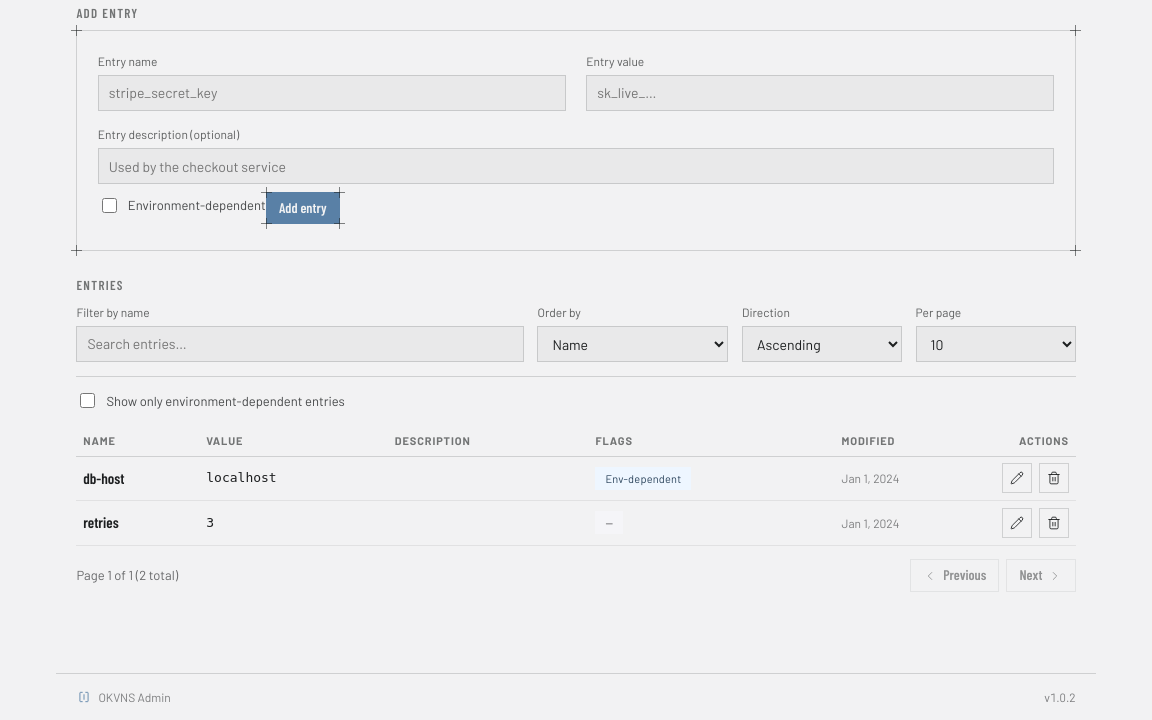
Test: NamespaceDetailPage › displays the stored env_dependent state for entries
(page scrolled)
Expected: the text "Env-dependent" is shown, x1=595 y1=467 x2=692 y2=490
Expected: the text "—" is shown, x1=595 y1=511 x2=623 y2=534
Click the button named "Edit entry db-host".
click(1017, 478)  # box x1=1002 y1=463 x2=1032 y2=493
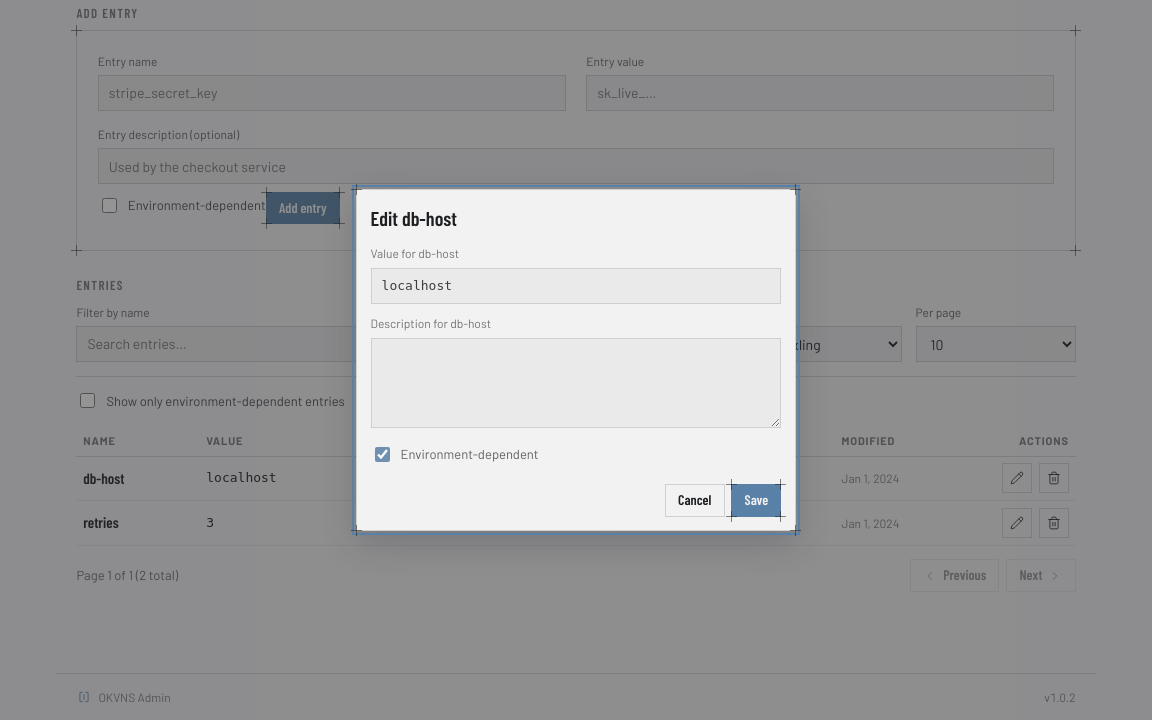
Expected: the checkbox named "Environment-dependent for db-host" is checked, x1=375 y1=447 x2=390 y2=462
